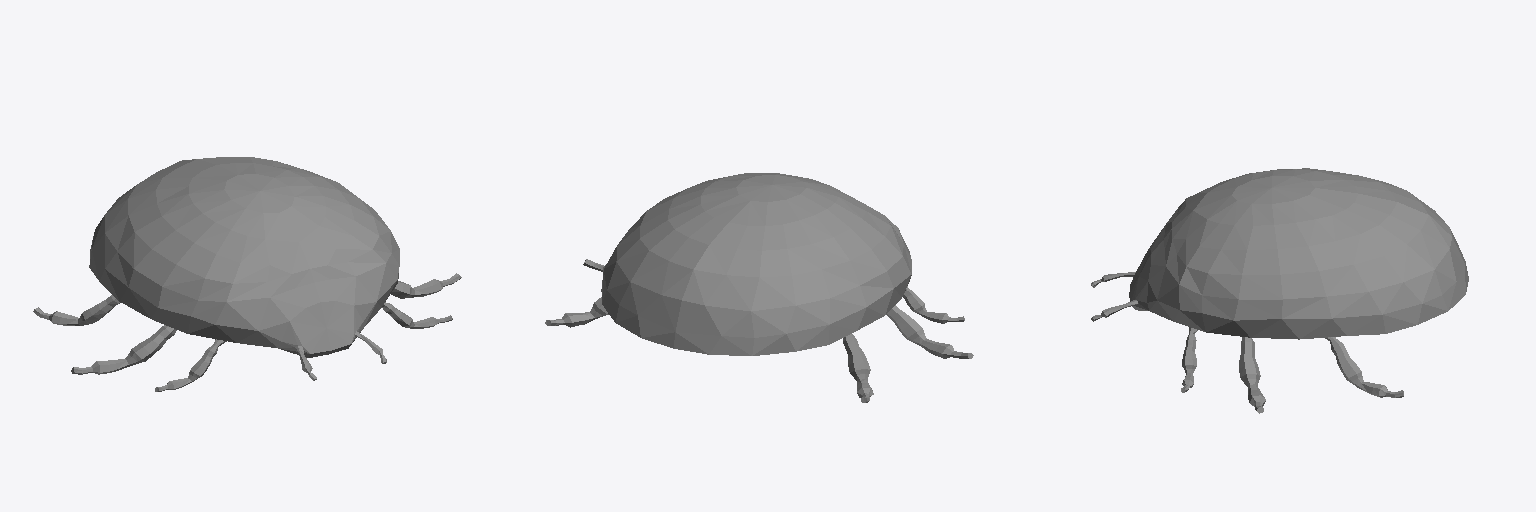
Rendered from ladybug.obj.
3 views of the same model, side by side, from view 1: azimuth 30°, elevation 25°; view 2: azimuth 150°, elevation 25°; view 3: azimuth 270°, elevation 25° (orthographic).
Visible parts, largest first — view 1: ladybug, leg2, leg3, leg1, leg5, leg6; view 2: ladybug, leg2, leg3, leg4, leg1; view 3: ladybug, leg4, leg5, leg6.
Part boxes in pixels (x1,y1,x2,y2): ladybug: (89, 157, 399, 357); leg2: (71, 325, 176, 374); leg3: (33, 295, 120, 325); leg1: (155, 339, 226, 391); leg5: (391, 273, 461, 298); leg6: (382, 302, 452, 328); ladybug: (601, 173, 911, 355); leg2: (886, 305, 973, 358); leg3: (843, 334, 873, 402); leg4: (545, 297, 608, 327); leg1: (903, 286, 964, 323); ladybug: (1129, 168, 1468, 339); leg4: (1325, 337, 1403, 397); leg5: (1239, 337, 1265, 413); leg6: (1181, 327, 1197, 392).
Bounding box in the file's own units: 0.3812 × 0.1278 × 0.3216.